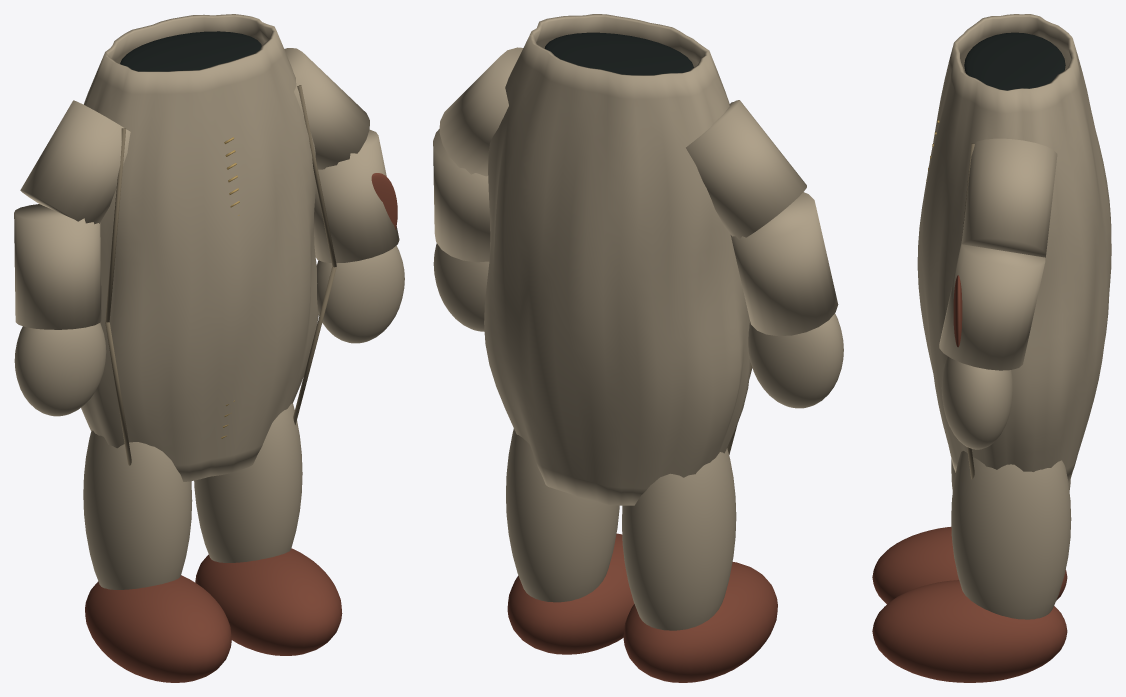
The model's file is empty-costume.glb.
The picture shows the model from 3 angles, left to right: view 1: azimuth 30°, elevation 25°; view 2: azimuth 150°, elevation 25°; view 3: azimuth 270°, elevation 25°; orthographic projection. The views are drawn at different scales.
Parts seen in each view (by area): view 1: Empty costume canvas, Mended russet patches, Empty black lining, Exposed coarse seams; view 2: Empty costume canvas, Mended russet patches, Empty black lining; view 3: Empty costume canvas, Mended russet patches, Empty black lining.
Boxes of the visible parts, x1,y1,x2,y2 form: Empty costume canvas: [14, 14, 404, 589]; Mended russet patches: [85, 173, 397, 682]; Empty black lining: [120, 31, 261, 71]; Exposed coarse seams: [105, 85, 336, 465]; Empty costume canvas: [433, 14, 843, 630]; Mended russet patches: [507, 533, 777, 682]; Empty black lining: [544, 32, 693, 75]; Empty costume canvas: [917, 14, 1111, 619]; Mended russet patches: [872, 275, 1067, 682]; Empty black lining: [964, 32, 1065, 90].
Size of the model in its own units: 1.18 by 1.75 by 0.6376.
